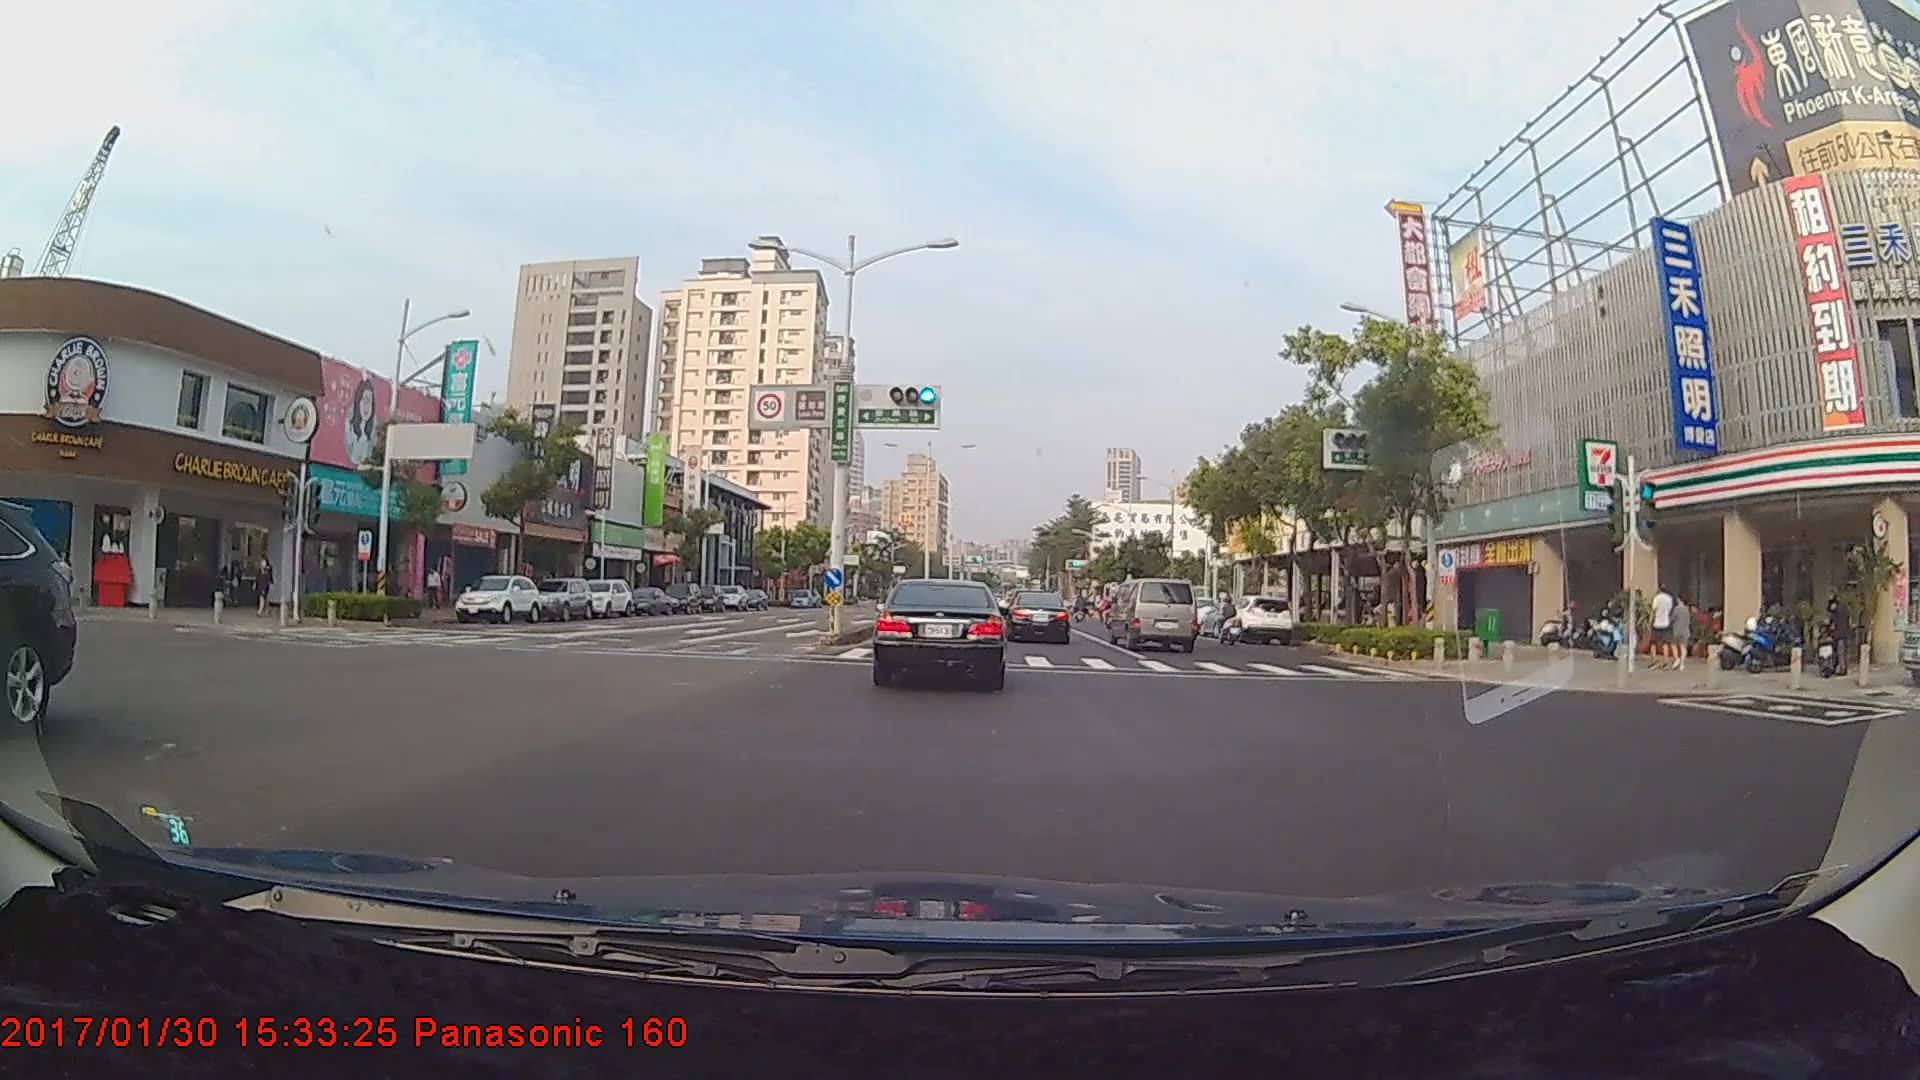pedestrian: (1644, 579, 1674, 675), (1669, 594, 1694, 672), (256, 559, 277, 622), (426, 566, 446, 612)
rider: (1211, 597, 1244, 650)
vehicle: (0, 494, 78, 731), (873, 576, 1006, 689), (1110, 577, 1198, 651), (451, 572, 544, 623), (1220, 594, 1293, 646), (1003, 591, 1073, 645), (531, 576, 594, 620), (580, 577, 635, 620), (660, 581, 705, 613), (625, 587, 670, 616)
